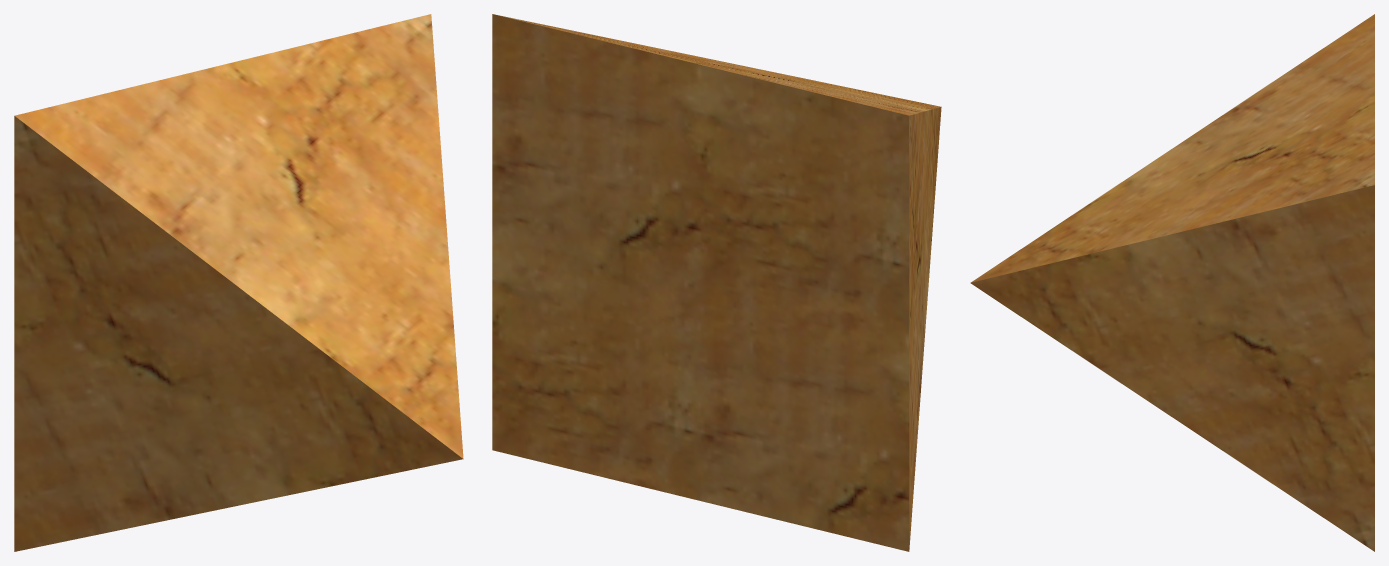
Rendered from block-ramp-single.glb.
3 views of the same model, side by side, from view 1: azimuth 30°, elevation 25°; view 2: azimuth 150°, elevation 25°; view 3: azimuth 270°, elevation 25° (orthographic). The views are drawn at different scales.
Visible parts, largest first — view 1: Block-Ramp-Single; view 2: Block-Ramp-Single; view 3: Block-Ramp-Single.
Boxes of the visible parts, x1,y1,x2,y2 form: Block-Ramp-Single: (14,14,463,551); Block-Ramp-Single: (492,14,941,551); Block-Ramp-Single: (970,14,1374,551).
Size of the model in its own units: 2 by 2 by 2.
Materials: 1 (1 with a texture image).
